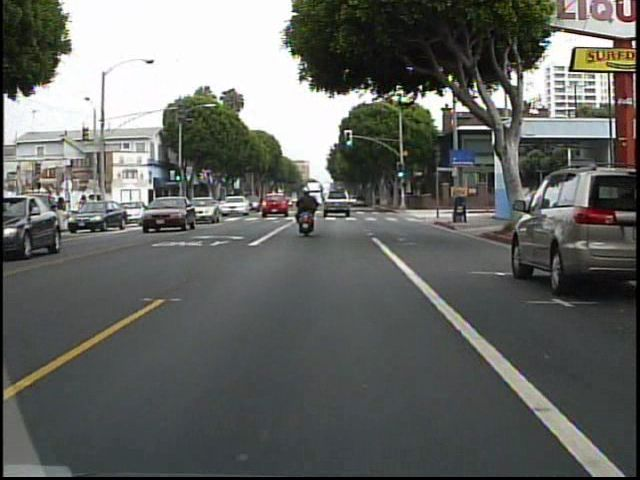car: (525, 165, 636, 294), (1, 192, 65, 252), (70, 196, 126, 234), (140, 192, 189, 230), (183, 192, 221, 225), (220, 194, 247, 218), (259, 191, 286, 215), (322, 189, 349, 213)
strada: (16, 283, 636, 475)
